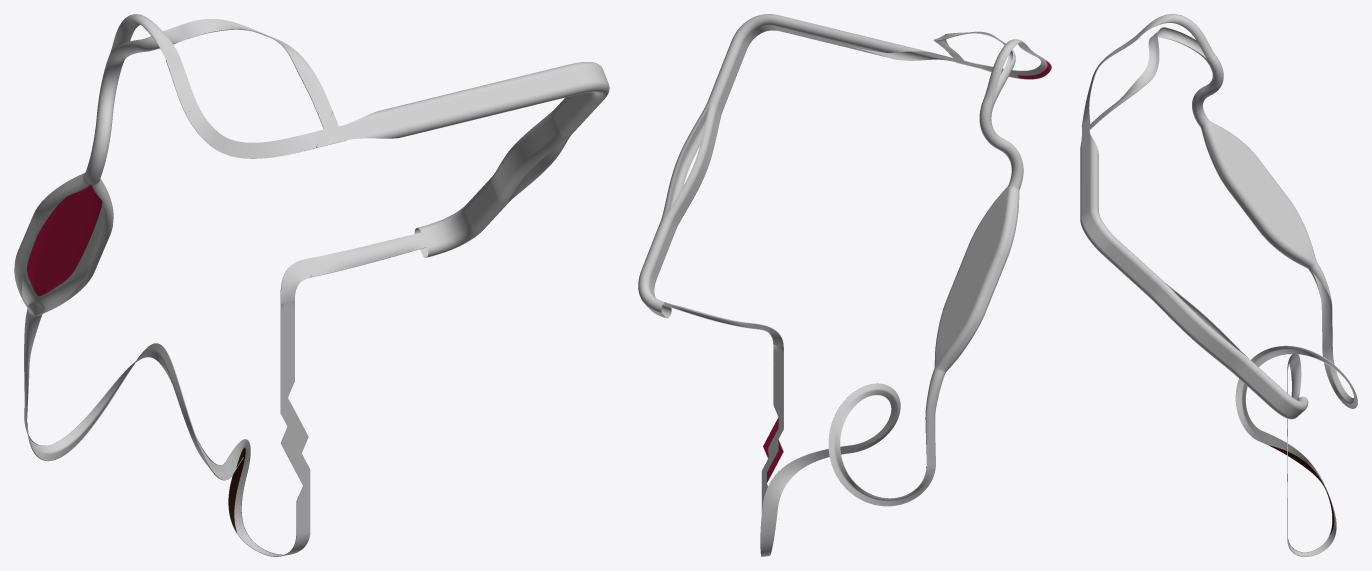
File: track.obj
3 views of the same model, side by side, from view 1: azimuth 30°, elevation 25°; view 2: azimuth 150°, elevation 25°; view 3: azimuth 270°, elevation 25° (orthographic). The views are drawn at different scales.
Parts seen in each view (by area): view 1: MXTRoadSegment.092_PreviewMesh, MXTRoadSegment.050_PreviewMesh, MXTRoadSegment.107_PreviewMesh, MXTRoadSegment.072_PreviewMesh, MXTRoadSegment.044_PreviewMesh, MXTRoadSegment.030_PreviewMesh, MXTRoadSegment.113_PreviewMesh, MXTRoadSegment.008_PreviewMesh, MXTRoadSegment.089_PreviewMesh, MXTRoadSegment.075_PreviewMesh, MXTRoadSegment.011_PreviewMesh, MXTRoadSegment.176_PreviewMesh (+7 smaller); view 2: MXTRoadSegment.092_PreviewMesh, MXTRoadSegment.107_PreviewMesh, MXTRoadSegment.113_PreviewMesh, MXTRoadSegment.030_PreviewMesh, MXTRoadSegment.050_PreviewMesh, MXTRoadSegment.023_PreviewMesh, MXTRoadSegment.089_PreviewMesh, MXTRoadSegment.176_PreviewMesh, MXTRoadSegment.044_PreviewMesh, MXTRoadSegment.100_PreviewMesh, MXTRoadSegment.017_PreviewMesh, MXTRoadSegment.011_PreviewMesh (+3 smaller); view 3: MXTRoadSegment.092_PreviewMesh, MXTRoadSegment.023_PreviewMesh, MXTRoadSegment.107_PreviewMesh, MXTRoadSegment.176_PreviewMesh, MXTRoadSegment.113_PreviewMesh, MXTRoadSegment.017_PreviewMesh, MXTRoadSegment.037_PreviewMesh, MXTRoadSegment.100_PreviewMesh, MXTRoadSegment.075_PreviewMesh, MXTRoadSegment.089_PreviewMesh, MXTRoadSegment.080_PreviewMesh, MXTRoadSegment.050_PreviewMesh (+6 smaller).
Part boxes in pixels (x1=…): MXTRoadSegment.092_PreviewMesh: x1=14, y1=173, x2=113, y2=316; MXTRoadSegment.050_PreviewMesh: x1=341, y1=87, x2=486, y2=140; MXTRoadSegment.107_PreviewMesh: x1=24, y1=343, x2=232, y2=480; MXTRoadSegment.072_PreviewMesh: x1=166, y1=57, x2=314, y2=158; MXTRoadSegment.044_PreviewMesh: x1=476, y1=65, x2=578, y2=116; MXTRoadSegment.030_PreviewMesh: x1=490, y1=110, x2=568, y2=203; MXTRoadSegment.113_PreviewMesh: x1=226, y1=439, x2=310, y2=556; MXTRoadSegment.008_PreviewMesh: x1=305, y1=232, x2=426, y2=277; MXTRoadSegment.089_PreviewMesh: x1=84, y1=52, x2=123, y2=183; MXTRoadSegment.075_PreviewMesh: x1=181, y1=19, x2=331, y2=112; MXTRoadSegment.011_PreviewMesh: x1=414, y1=205, x2=482, y2=257; MXTRoadSegment.176_PreviewMesh: x1=553, y1=92, x2=602, y2=135; MXTRoadSegment.092_PreviewMesh: x1=934, y1=184, x2=1019, y2=373; MXTRoadSegment.107_PreviewMesh: x1=828, y1=383, x2=935, y2=506; MXTRoadSegment.113_PreviewMesh: x1=760, y1=445, x2=850, y2=556; MXTRoadSegment.030_PreviewMesh: x1=664, y1=101, x2=722, y2=229; MXTRoadSegment.050_PreviewMesh: x1=843, y1=32, x2=955, y2=61; MXTRoadSegment.023_PreviewMesh: x1=661, y1=101, x2=710, y2=220; MXTRoadSegment.089_PreviewMesh: x1=979, y1=100, x2=1023, y2=188; MXTRoadSegment.176_PreviewMesh: x1=708, y1=41, x2=746, y2=109; MXTRoadSegment.044_PreviewMesh: x1=774, y1=15, x2=848, y2=47; MXTRoadSegment.100_PreviewMesh: x1=925, y1=369, x2=945, y2=465; MXTRoadSegment.017_PreviewMesh: x1=642, y1=220, x2=675, y2=276; MXTRoadSegment.011_PreviewMesh: x1=638, y1=268, x2=671, y2=318; MXTRoadSegment.092_PreviewMesh: x1=1200, y1=121, x2=1317, y2=269; MXTRoadSegment.023_PreviewMesh: x1=1148, y1=281, x2=1249, y2=374; MXTRoadSegment.107_PreviewMesh: x1=1235, y1=345, x2=1357, y2=441; MXTRoadSegment.176_PreviewMesh: x1=1104, y1=241, x2=1162, y2=295; MXTRoadSegment.113_PreviewMesh: x1=1260, y1=431, x2=1336, y2=556; MXTRoadSegment.017_PreviewMesh: x1=1235, y1=360, x2=1284, y2=406; MXTRoadSegment.037_PreviewMesh: x1=1080, y1=207, x2=1119, y2=256; MXTRoadSegment.100_PreviewMesh: x1=1309, y1=263, x2=1332, y2=348; MXTRoadSegment.075_PreviewMesh: x1=1099, y1=30, x2=1159, y2=121; MXTRoadSegment.089_PreviewMesh: x1=1192, y1=55, x2=1223, y2=126; MXTRoadSegment.080_PreviewMesh: x1=1139, y1=14, x2=1215, y2=60; MXTRoadSegment.050_PreviewMesh: x1=1080, y1=131, x2=1098, y2=185.
Size of the model in its own units: 3093 by 4142 by 2252.
